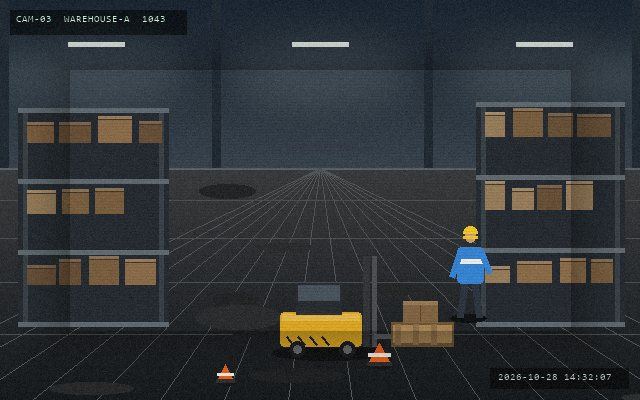cone: (366, 341, 392, 368), (215, 362, 235, 385)
forklift: (276, 254, 404, 360)
pallet: (389, 320, 455, 348)
person: (449, 224, 491, 321)
shelf: (476, 102, 624, 322), (18, 108, 168, 322)
